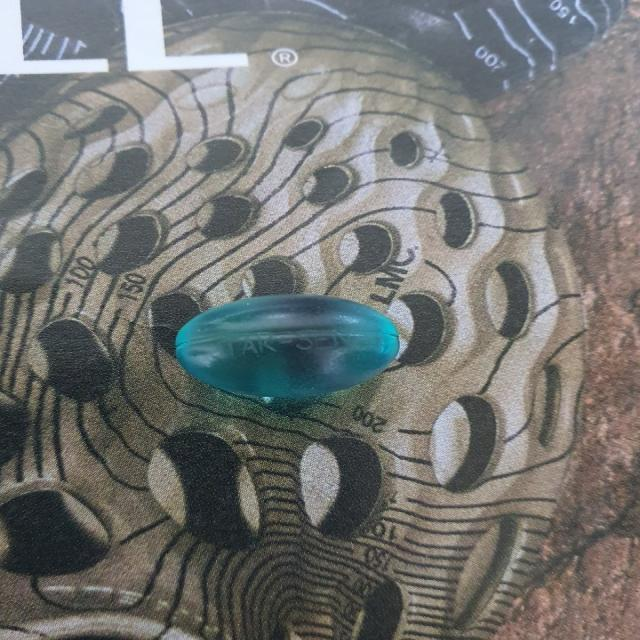pill: (164, 278, 418, 403)
